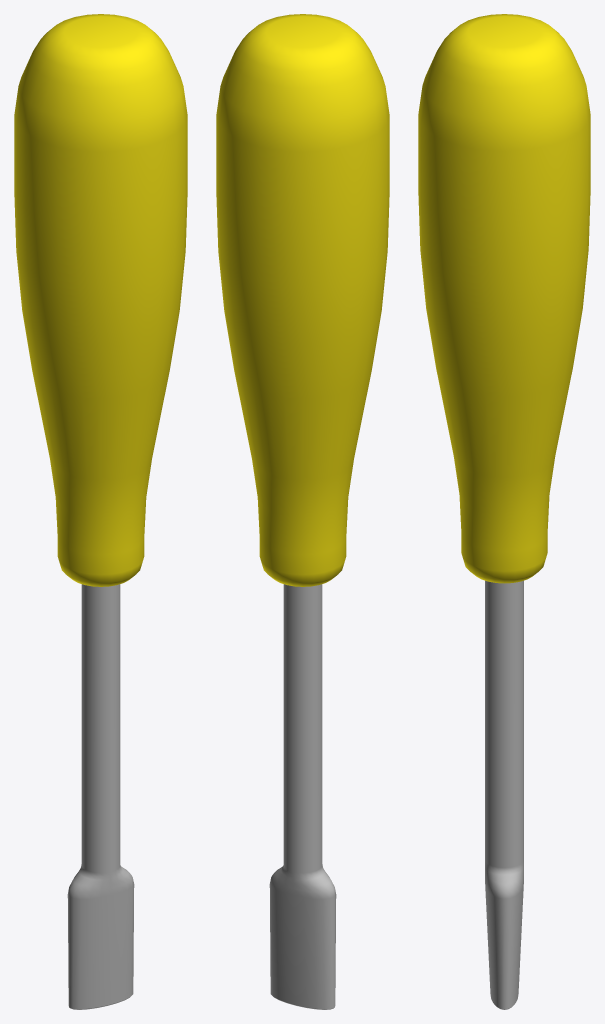
The model's file is Public_5_Screwdriver_1.glb.
3 views of the same model, side by side, from view 1: azimuth 30°, elevation 25°; view 2: azimuth 150°, elevation 25°; view 3: azimuth 270°, elevation 25° (orthographic).
Parts seen in each view (by area): view 1: Public_5_Screwdriver_1; view 2: Public_5_Screwdriver_1; view 3: Public_5_Screwdriver_1.
Boxes of the visible parts, x1,y1,x2,y2 form: Public_5_Screwdriver_1: (14,14,187,1009); Public_5_Screwdriver_1: (216,14,389,1009); Public_5_Screwdriver_1: (418,14,590,1009).
Size of the model in its own units: 0.3517 by 2.17 by 0.3517.
Materials: 1 (1 with a texture image).
